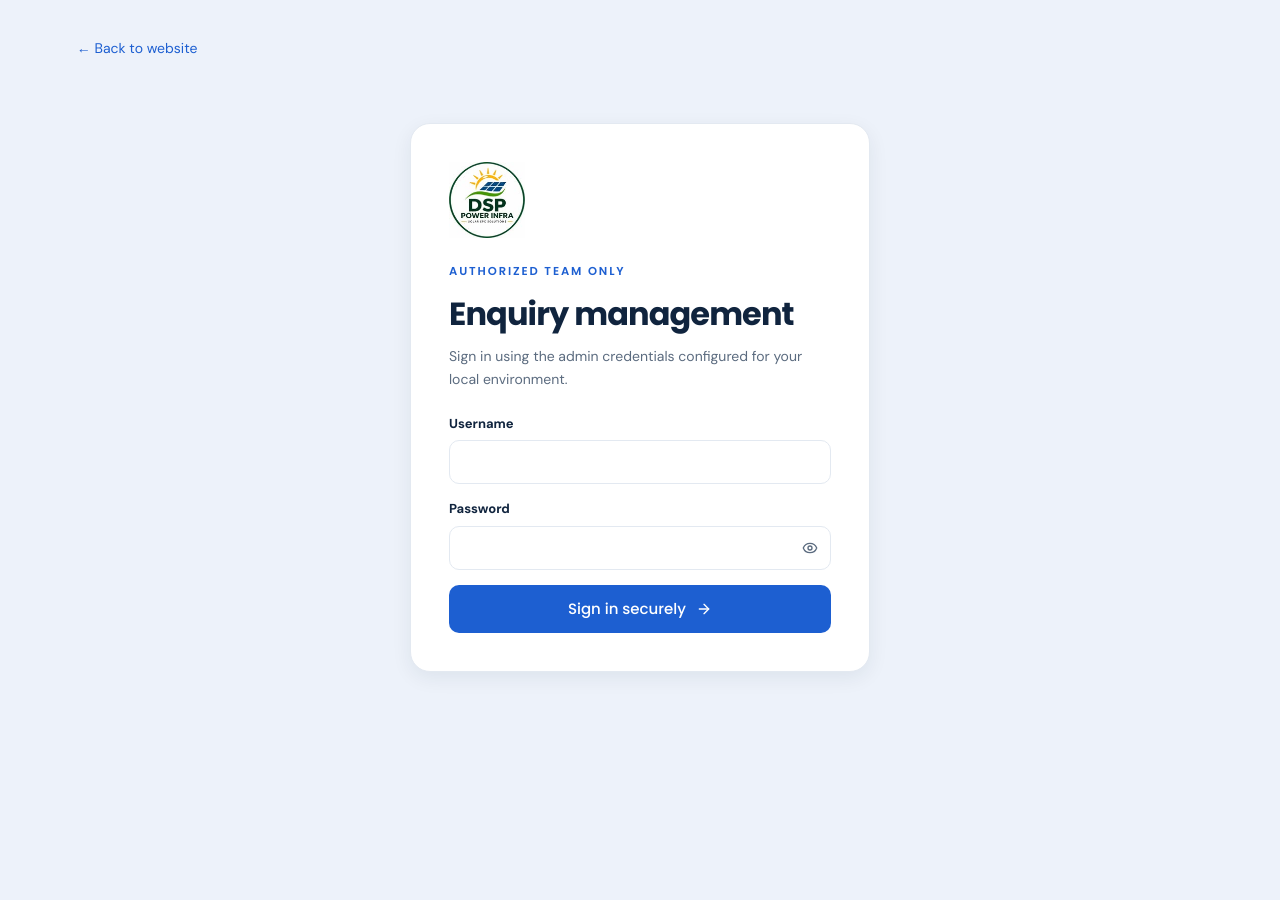
Test: Admin enquiry desk › TC-ADMIN-09: pagination asks the server for the next page
The width and height of the screenshot is (1280, 900).
Type "admin" into the field labelled "Username" at {"x": 640, "y": 462}, box [449, 440, 831, 484]
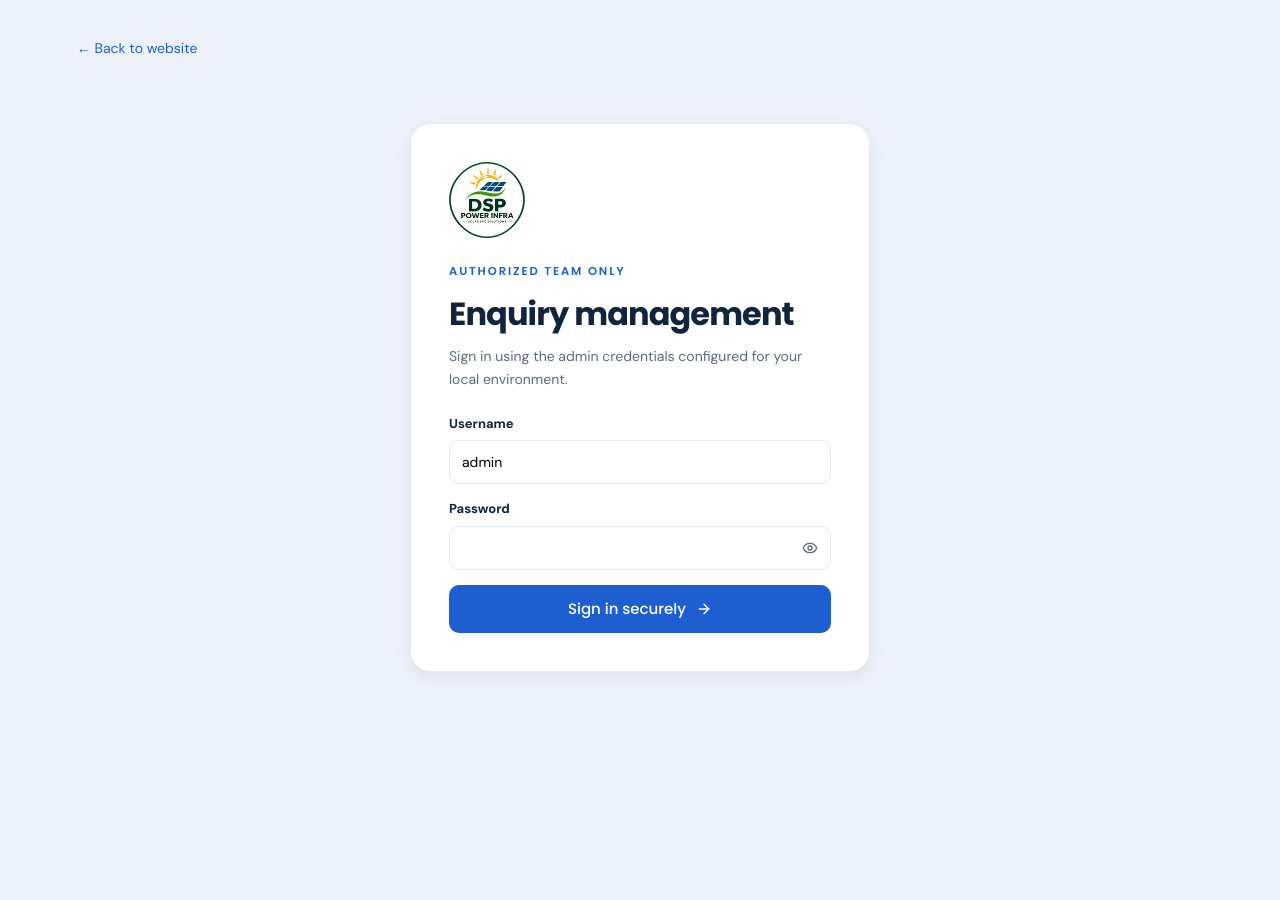
Type "local-dev-admin" into the password field labelled "Password" at {"x": 640, "y": 548}, box [449, 526, 831, 570]
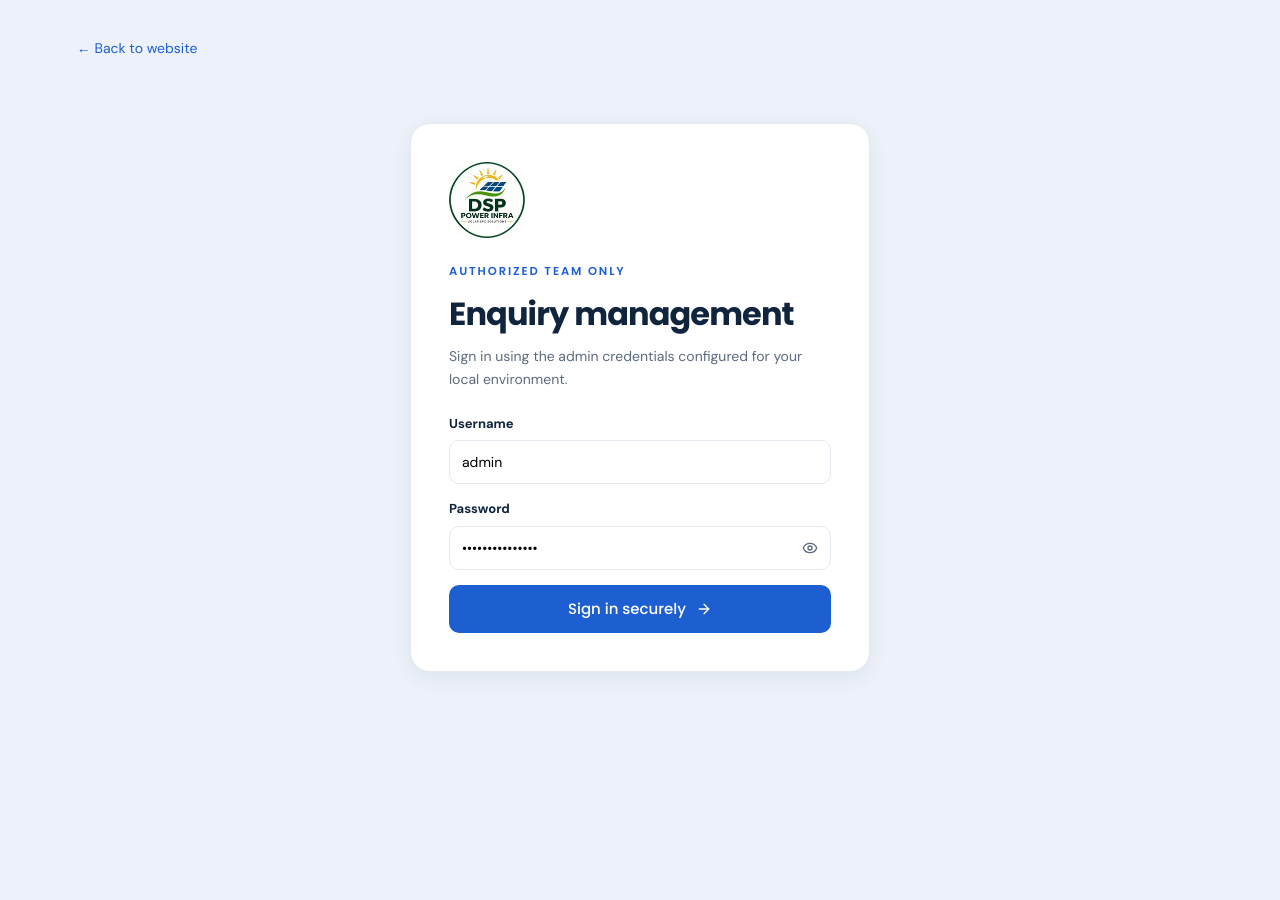
Click the button "Sign in securely" at {"x": 640, "y": 609}, box [449, 585, 831, 633]
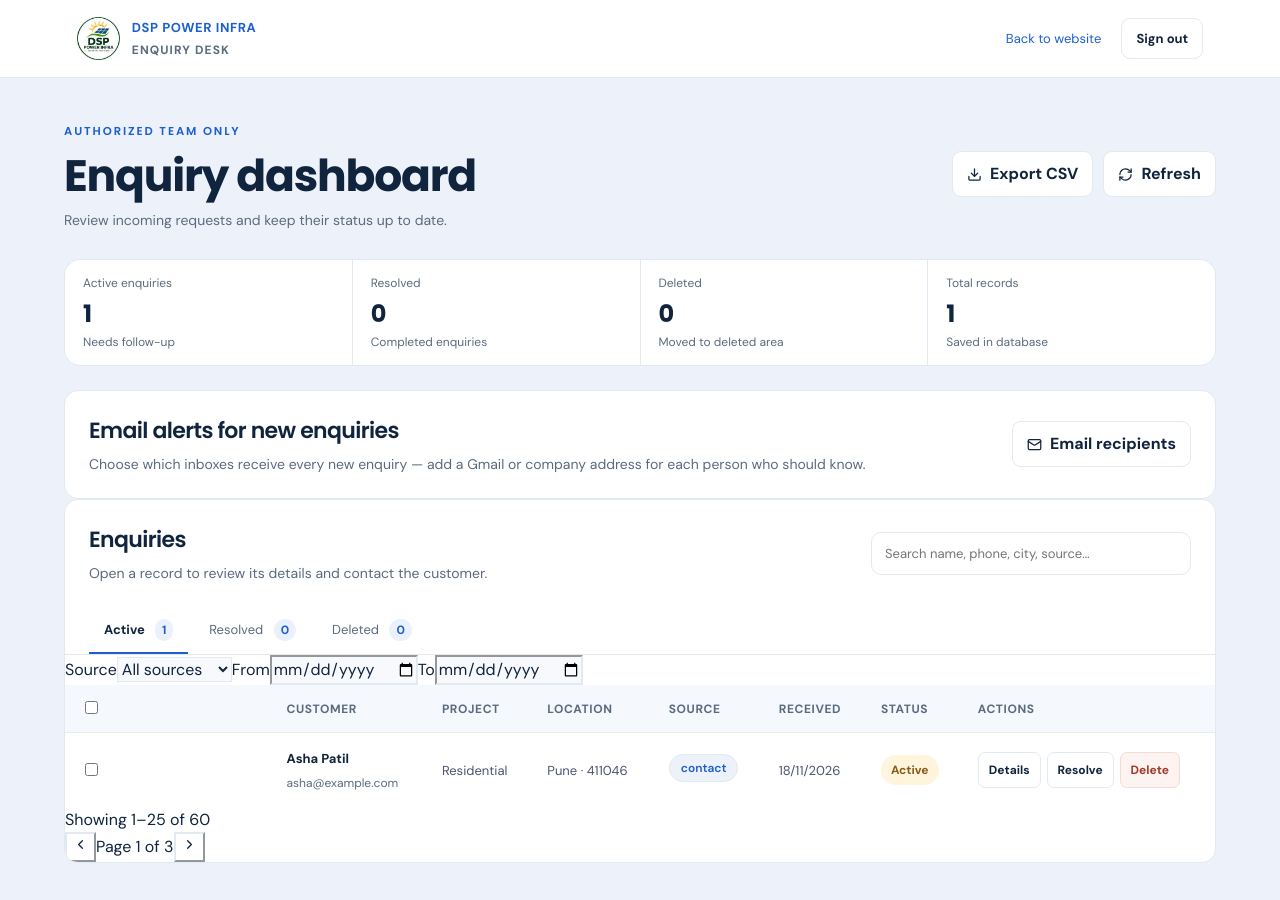
Expected: the heading "Enquiry dashboard" is shown, [64, 152, 476, 200]
Expected: the text "Showing 1–25 of 60" is shown, [65, 808, 210, 830]
Click the button named "next page" at {"x": 189, "y": 846}, box [174, 832, 204, 862]
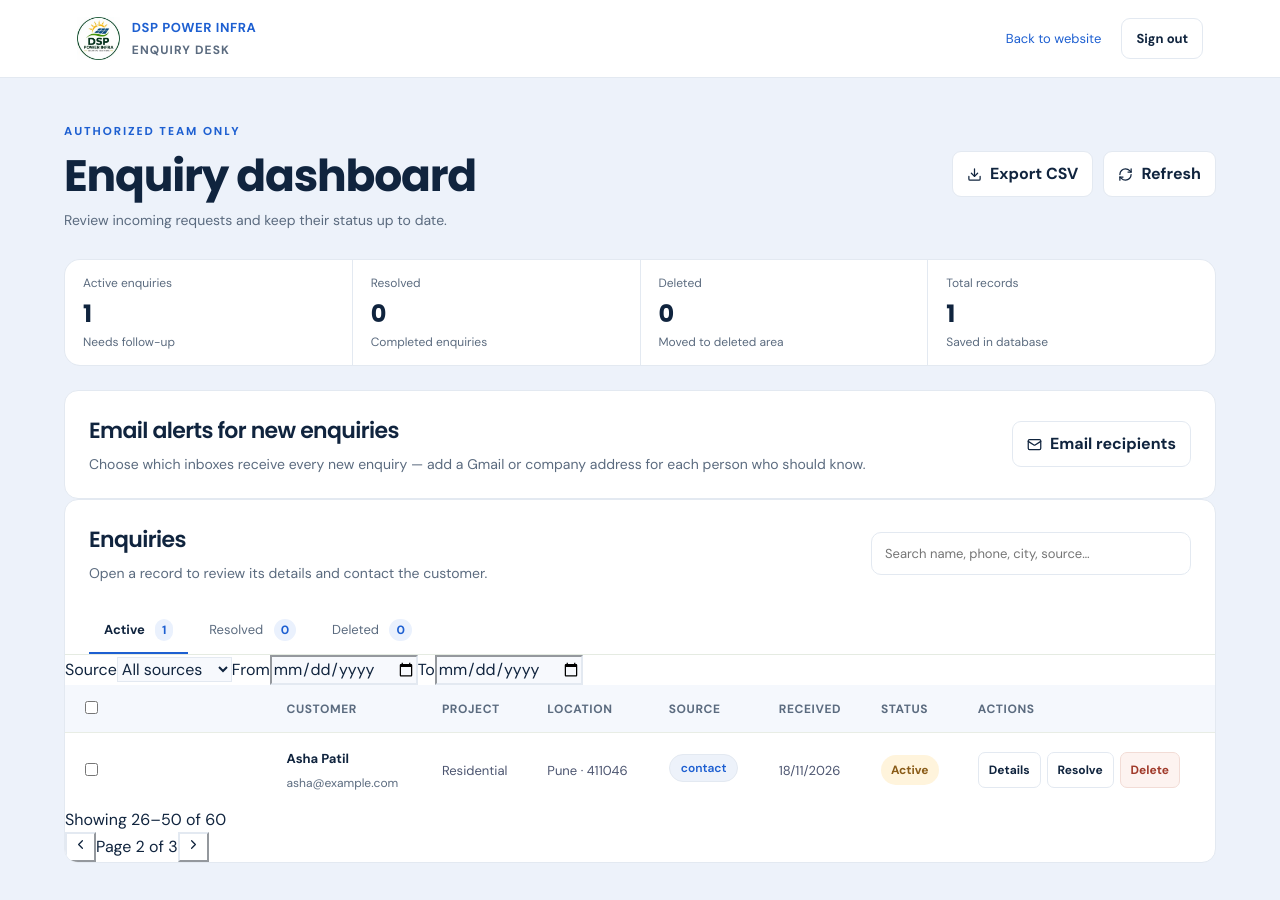
Expected: the text "Page 2 of 3" is shown, [96, 836, 178, 856]
